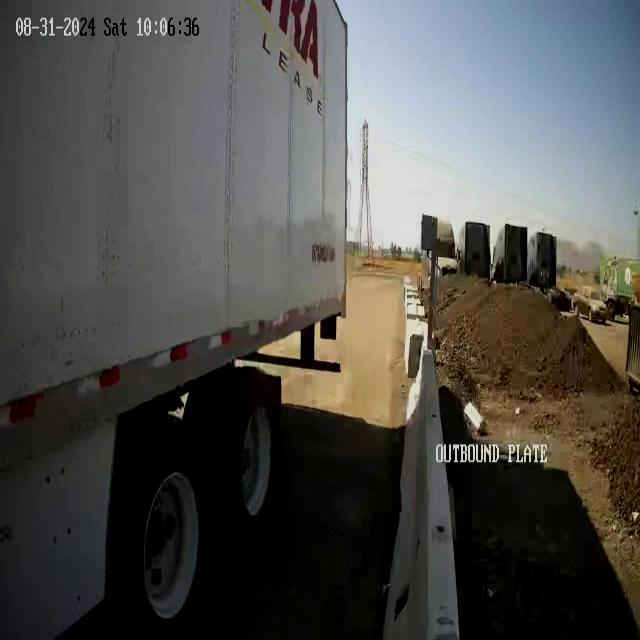CONTAINER: (2, 0, 350, 455)
